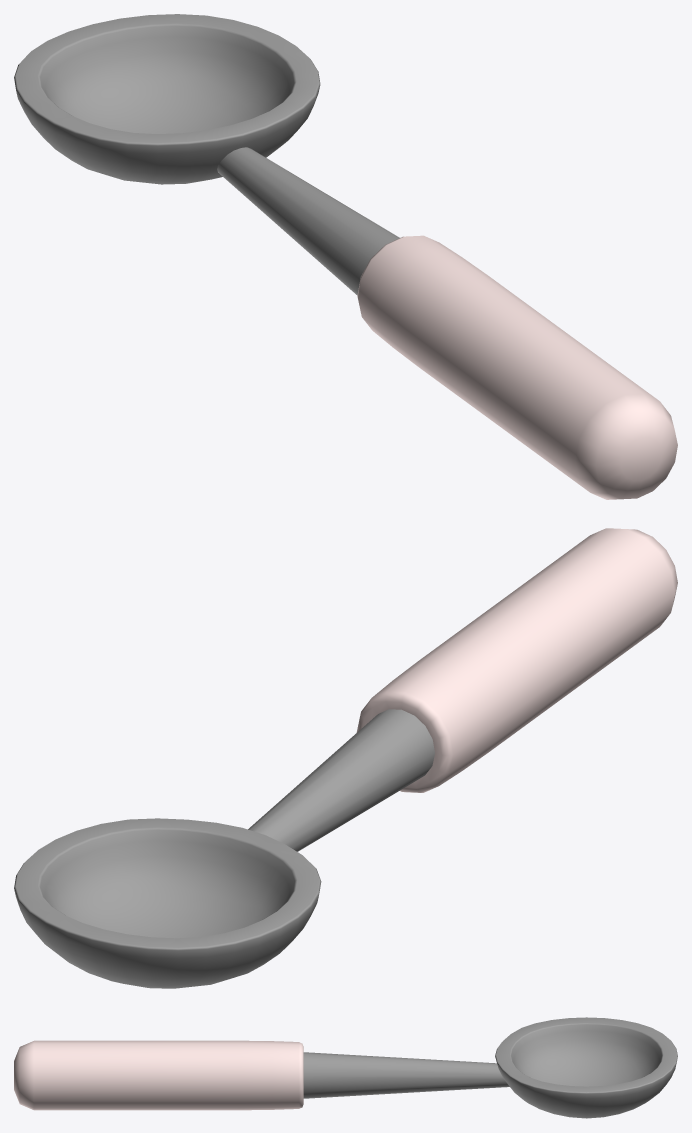
The model's file is Store_20_Spoon_1.glb.
3 renders of one model, top to bottom at view 1: azimuth 30°, elevation 25°; view 2: azimuth 150°, elevation 25°; view 3: azimuth 270°, elevation 25°, orthographic. The views are drawn at different scales.
Parts seen in each view (by area): view 1: Store_20_Spoon_1; view 2: Store_20_Spoon_1; view 3: Store_20_Spoon_1.
Boxes of the visible parts, bbox=[...] form: Store_20_Spoon_1: bbox=[14, 14, 677, 499]; Store_20_Spoon_1: bbox=[14, 528, 677, 988]; Store_20_Spoon_1: bbox=[14, 1017, 677, 1118].
Bounding box in the file's own units: 0.0659 × 0.0251 × 0.2398.
Materials: 1 (1 with a texture image).
